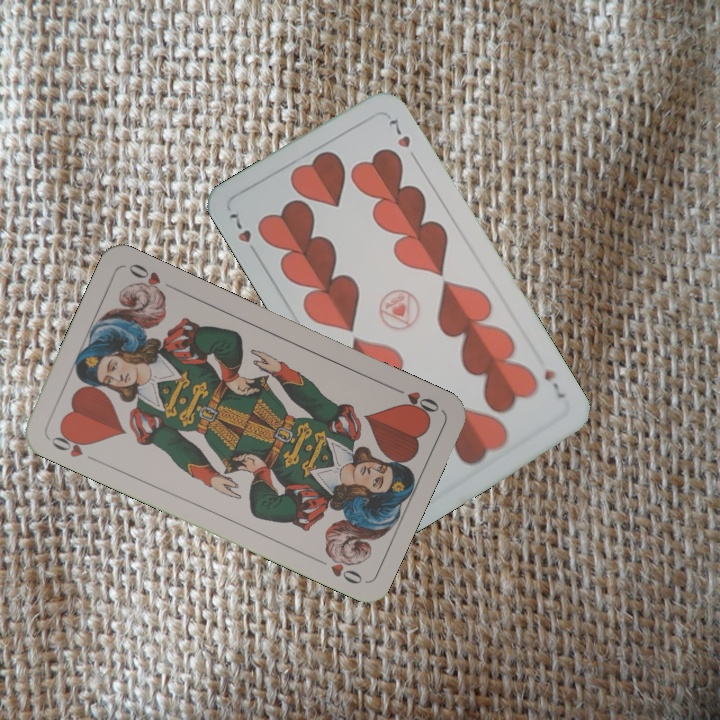H7: (224, 209, 254, 246), (539, 365, 568, 401)
HO: (387, 382, 442, 420), (47, 426, 94, 461)
